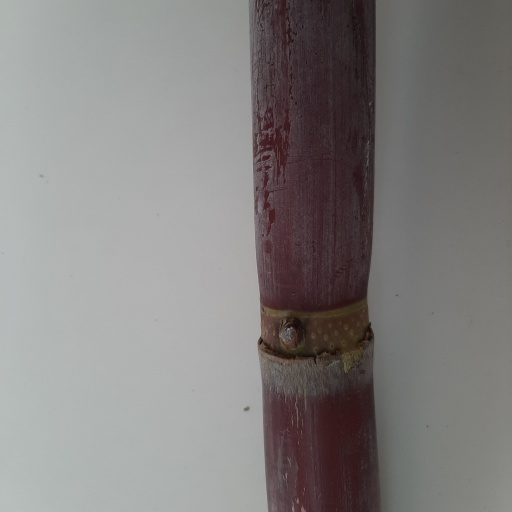Bud: (277, 316, 305, 353)
